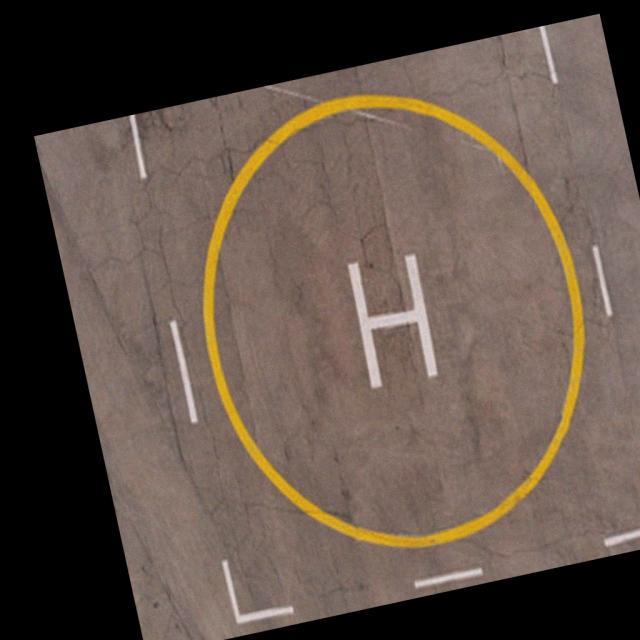helipad: (198, 88, 588, 553)
